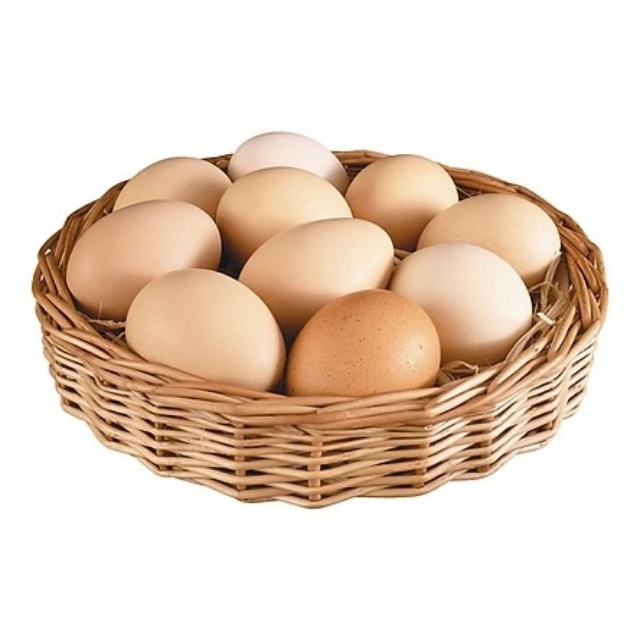trung_ga: (121, 267, 290, 396), (64, 199, 224, 327), (234, 217, 400, 332), (282, 288, 443, 404), (391, 240, 534, 365), (414, 191, 562, 283), (211, 166, 353, 254), (342, 152, 460, 250), (112, 157, 235, 221)
